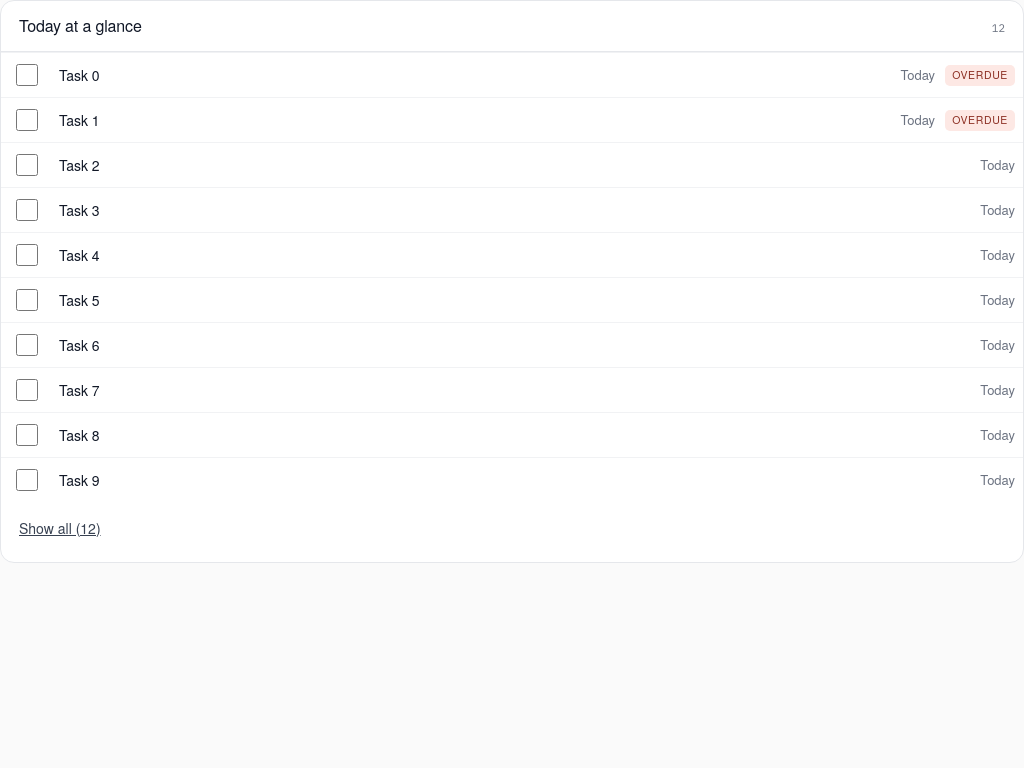
Test case: Glance sections › shows the first 10 today items until Show all expands them
The width and height of the screenshot is (1024, 768).
Expected: the text "Task 0" is shown, [59,65,100,85]
Expected: the text "Task 9" is shown, [59,470,100,490]
Click the button "Show all (12)".
click(60, 528)  # box [19,506,101,550]
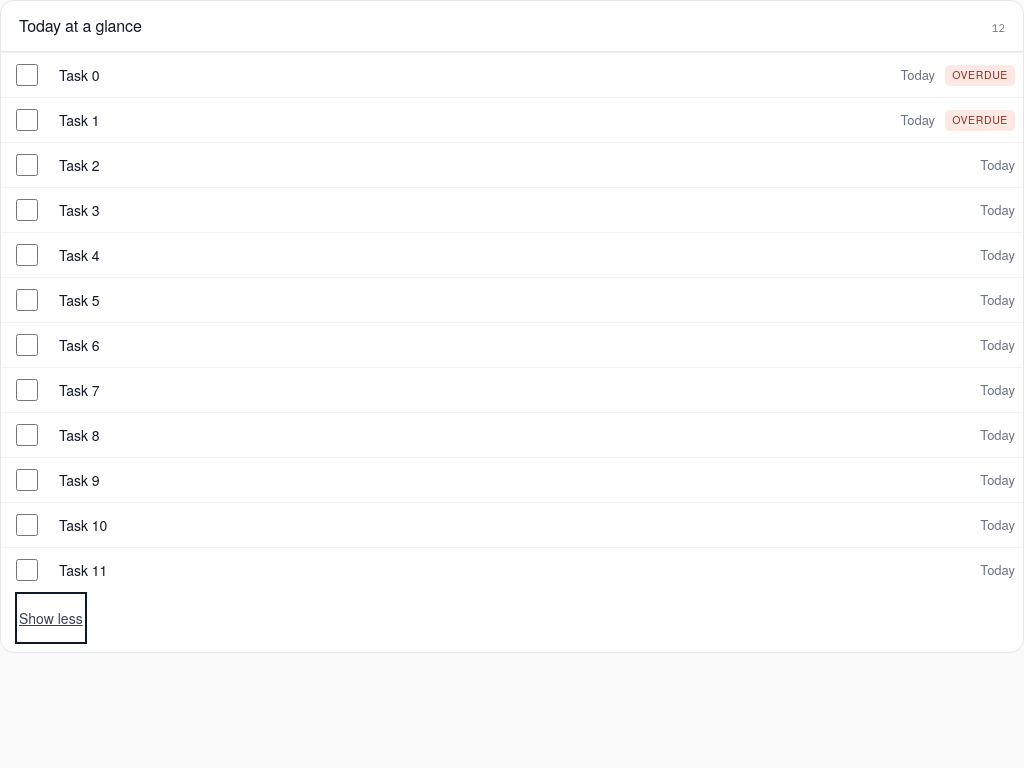
Expected: the text "Task 11" is shown, [59,560,107,580]
Click the button "Show less".
click(51, 618)  # box [19,596,83,640]
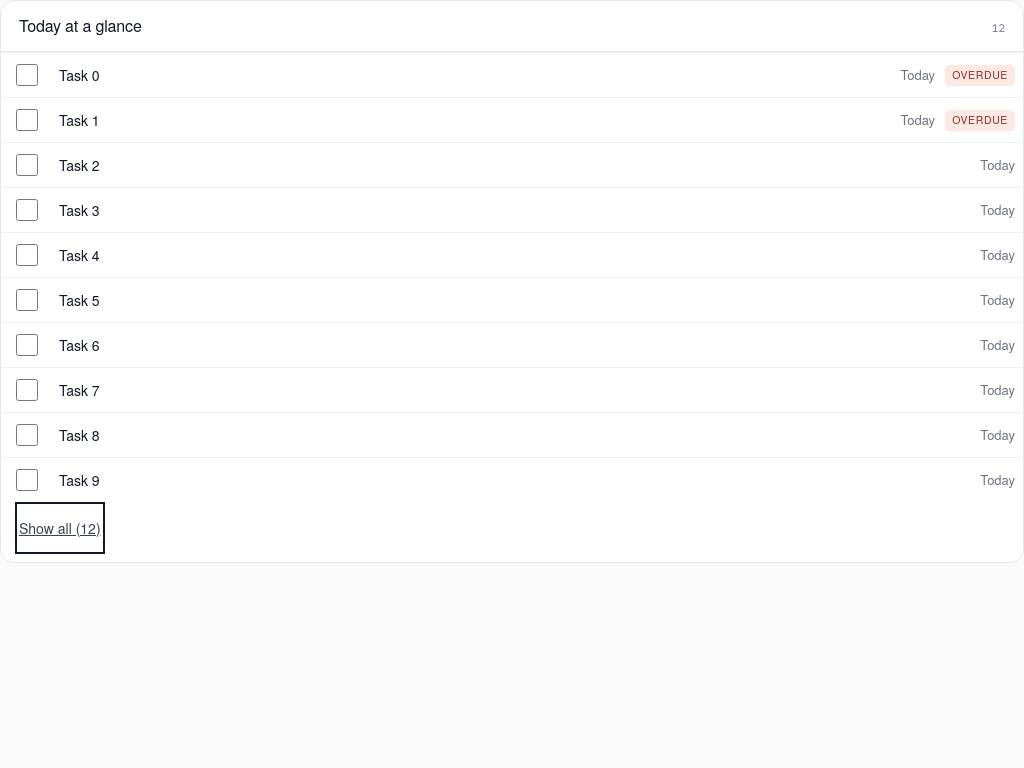
Expected: the button "Task 11" is gone
